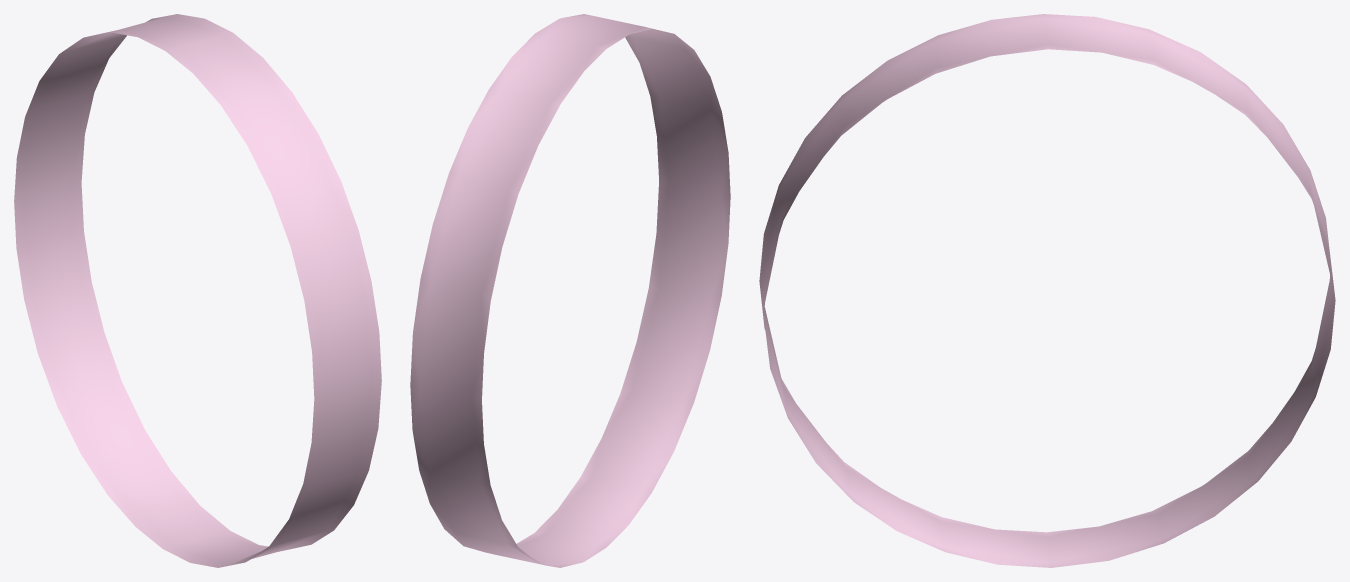
Rendered from original-23.obj.
The picture shows the model from 3 angles, left to right: view 1: azimuth 30°, elevation 25°; view 2: azimuth 150°, elevation 25°; view 3: azimuth 270°, elevation 25°; orthographic projection. The views are drawn at different scales.
Visible parts, largest first — view 1: mesh20/mesh20-geometry#mesh20-geometry; view 2: mesh20/mesh20-geometry#mesh20-geometry; view 3: mesh20/mesh20-geometry#mesh20-geometry.
Boxes of the visible parts, x1=… form: mesh20/mesh20-geometry#mesh20-geometry: x1=14, y1=14, x2=381, y2=567; mesh20/mesh20-geometry#mesh20-geometry: x1=410, y1=14, x2=730, y2=567; mesh20/mesh20-geometry#mesh20-geometry: x1=759, y1=14, x2=1335, y2=567.
Bounding box in the file's own units: 0.0226 × 0.1133 × 0.114.
